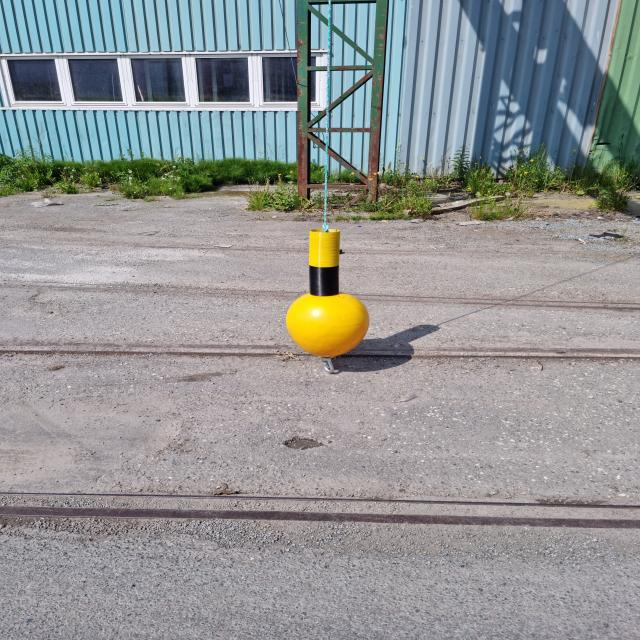west: (287, 229, 368, 356)
